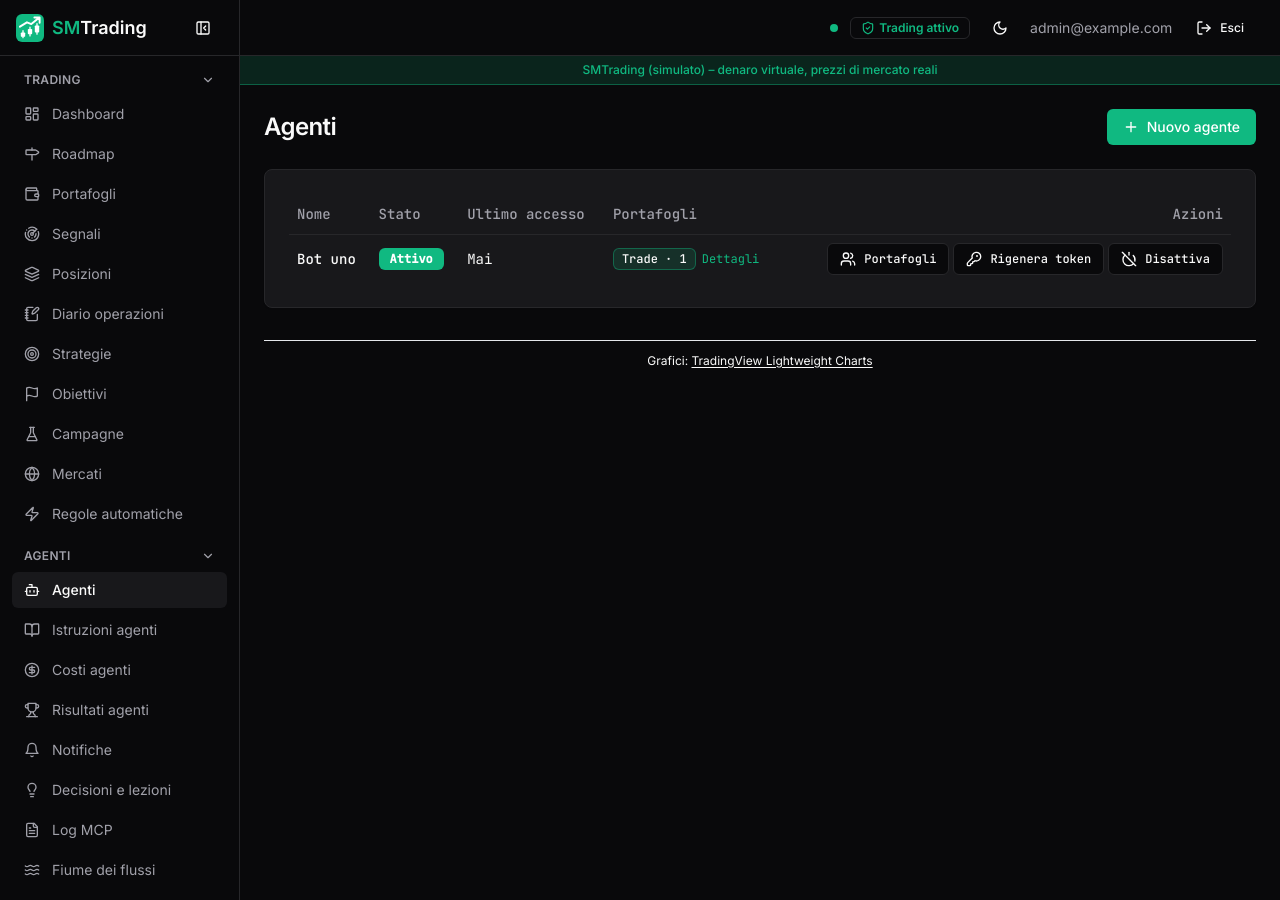
Scenario: Agents › rotates the token after a confirmation
Expected: the link "Bot uno" is shown, [297,250,356,268]
Click the button with aria-label "Rigenera token Bot uno" at (1029, 258), box [953,242,1104,274]
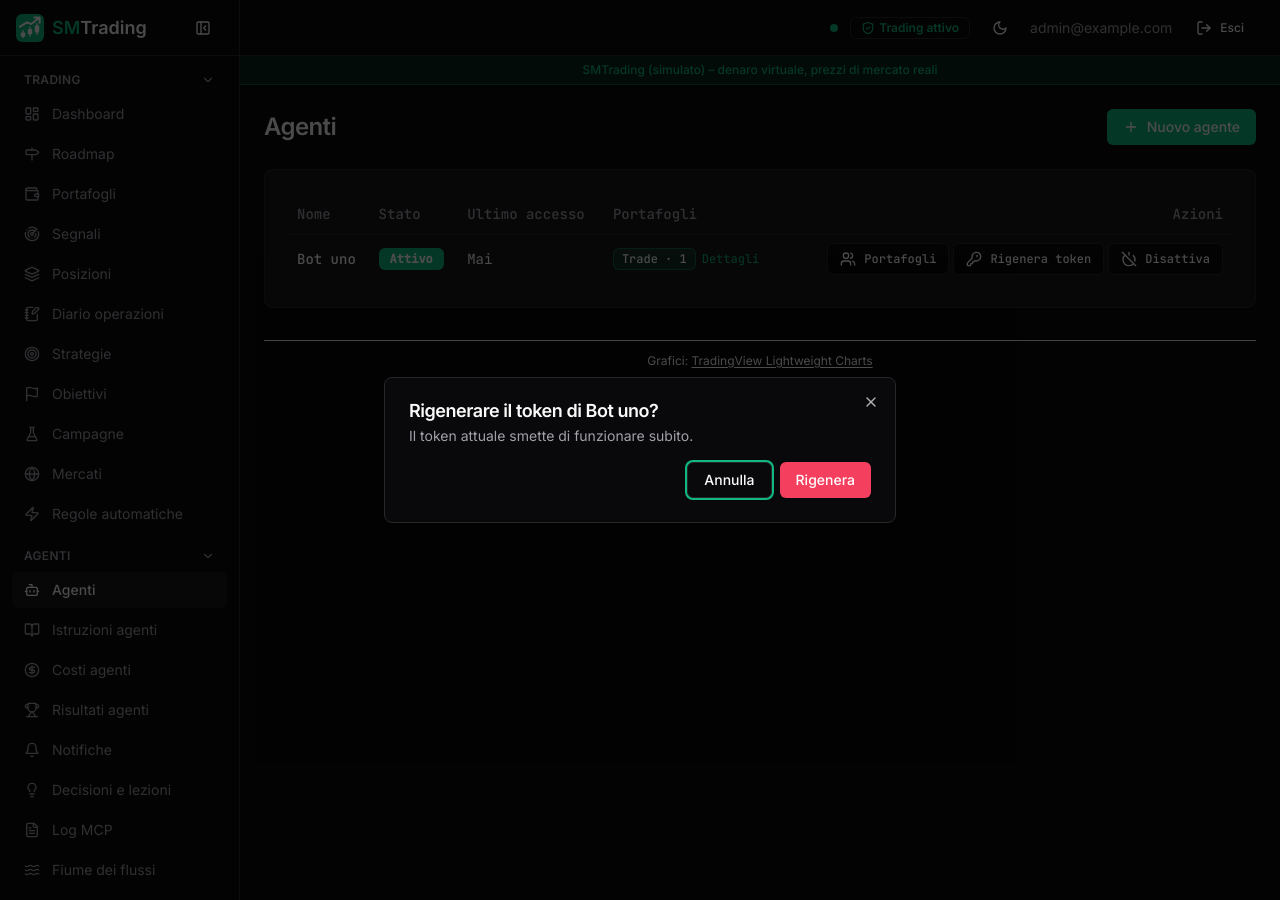
Click the button "Rigenera" at (825, 480), box [780,462,871,498]
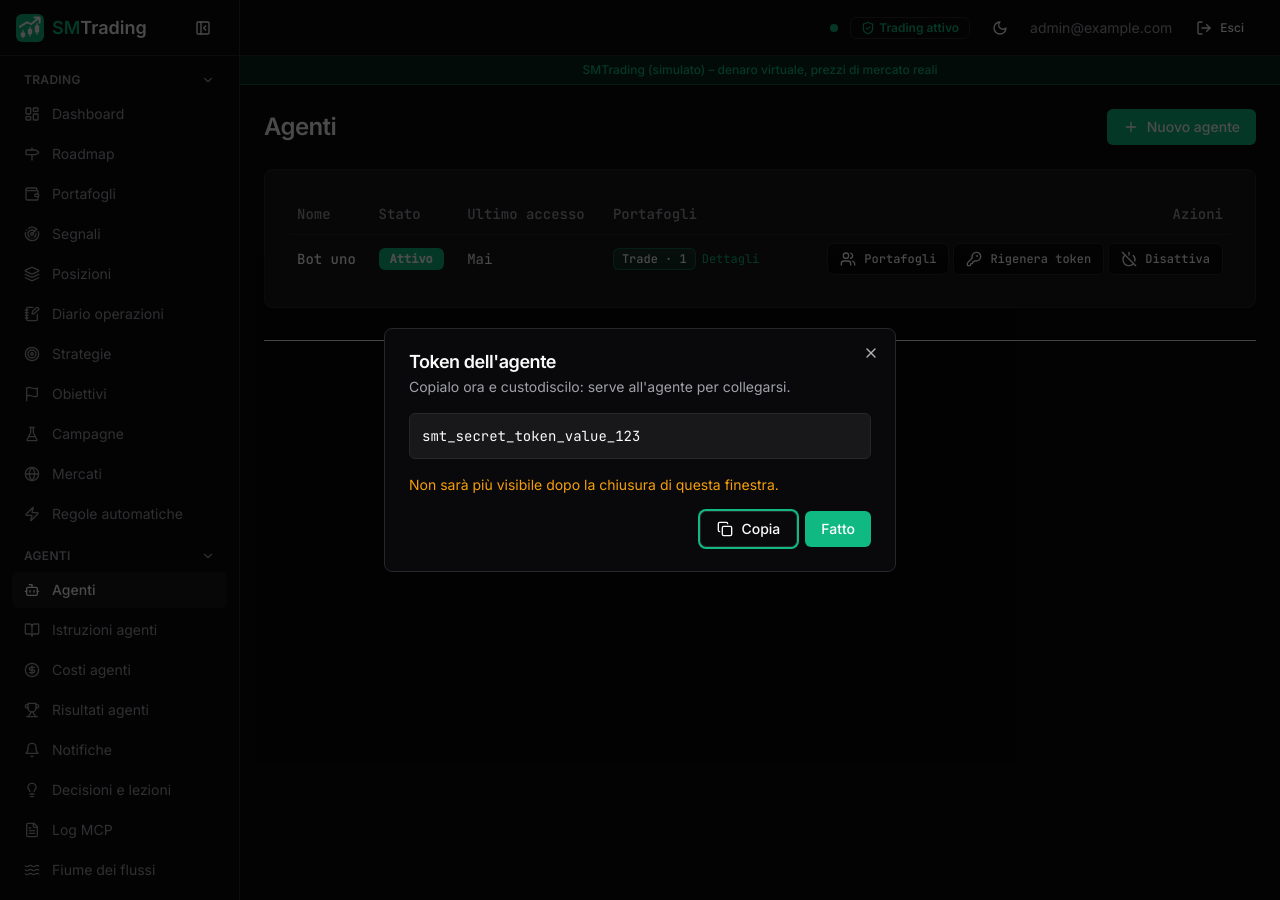
Expected: the text "smt_secret_token_value_123" is shown, [409,413,871,459]
